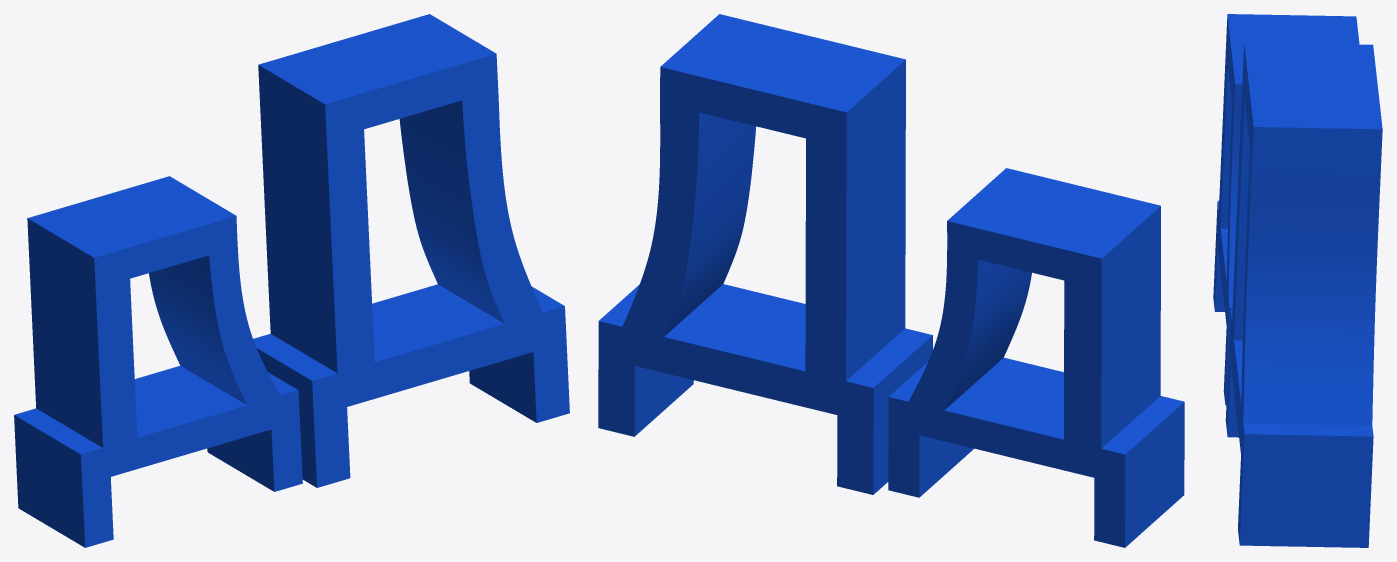
3 renders of one model, left to right at view 1: azimuth 30°, elevation 25°; view 2: azimuth 150°, elevation 25°; view 3: azimuth 270°, elevation 25°, orthographic. The views are drawn at different scales.
Visible parts, largest first — view 1: Mesh_0.004; view 2: Mesh_0.004; view 3: Mesh_0.004.
Part boxes in pixels (x1=…): Mesh_0.004: x1=14, y1=14, x2=569, y2=547; Mesh_0.004: x1=598, y1=14, x2=1184, y2=547; Mesh_0.004: x1=1213, y1=14, x2=1382, y2=547.
Bounding box in the file's own units: 12.45 × 9.01 × 3.49.
